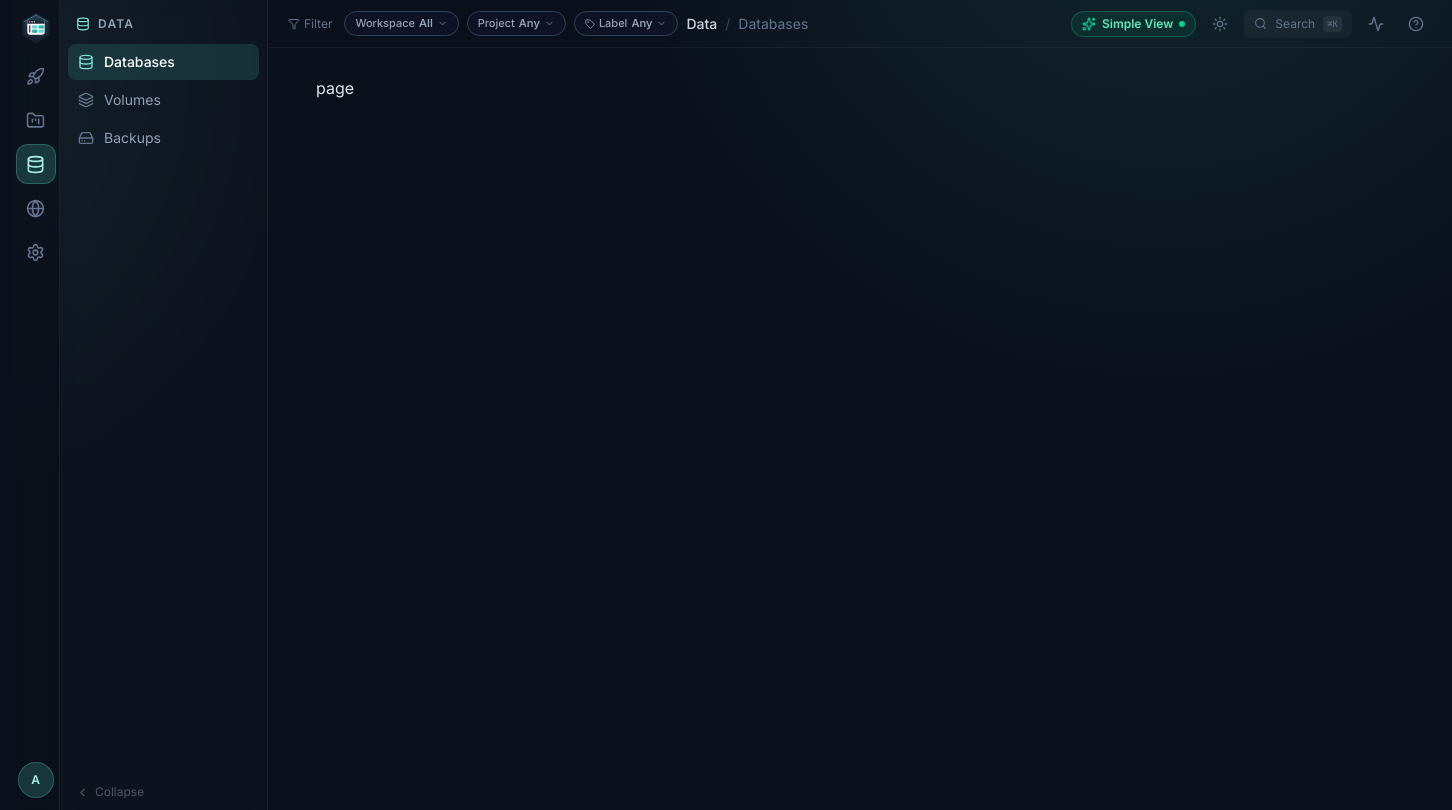
Layout › shows the Doctor sidebar link to instance operators
Click the 5th button named "System" at (36, 252), box [16,232,56,272]
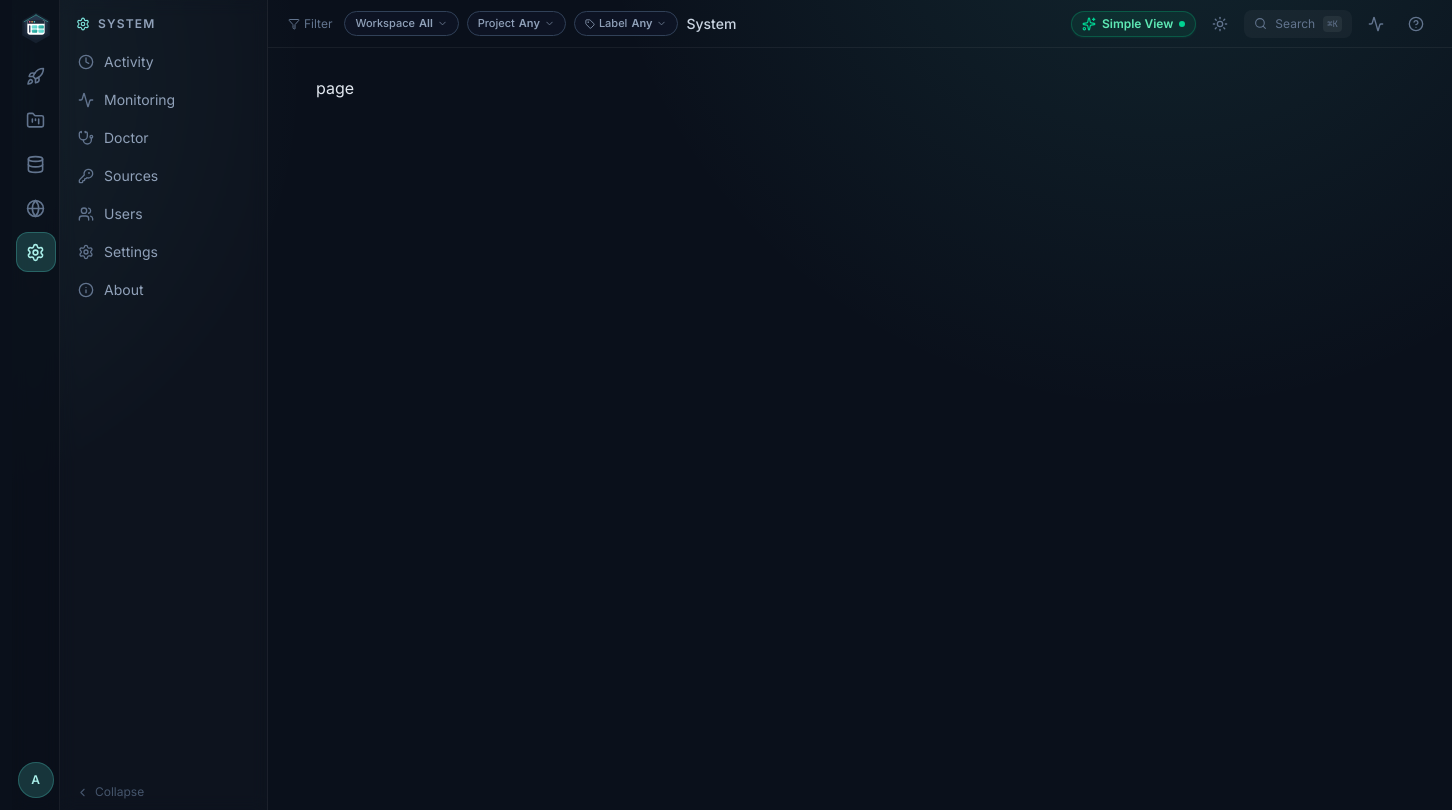
Expected: the link "Doctor" is shown, [78,129,149,146]
